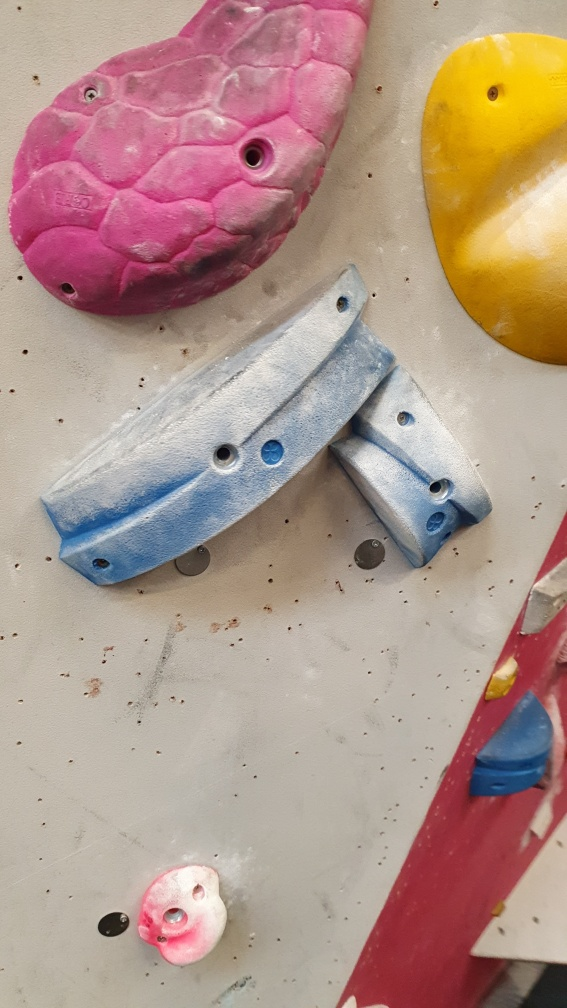Hand Start: (351, 537, 386, 573), (173, 544, 210, 577), (98, 909, 132, 938)
Pinch: (42, 260, 398, 591), (331, 371, 496, 567), (471, 691, 553, 800)
